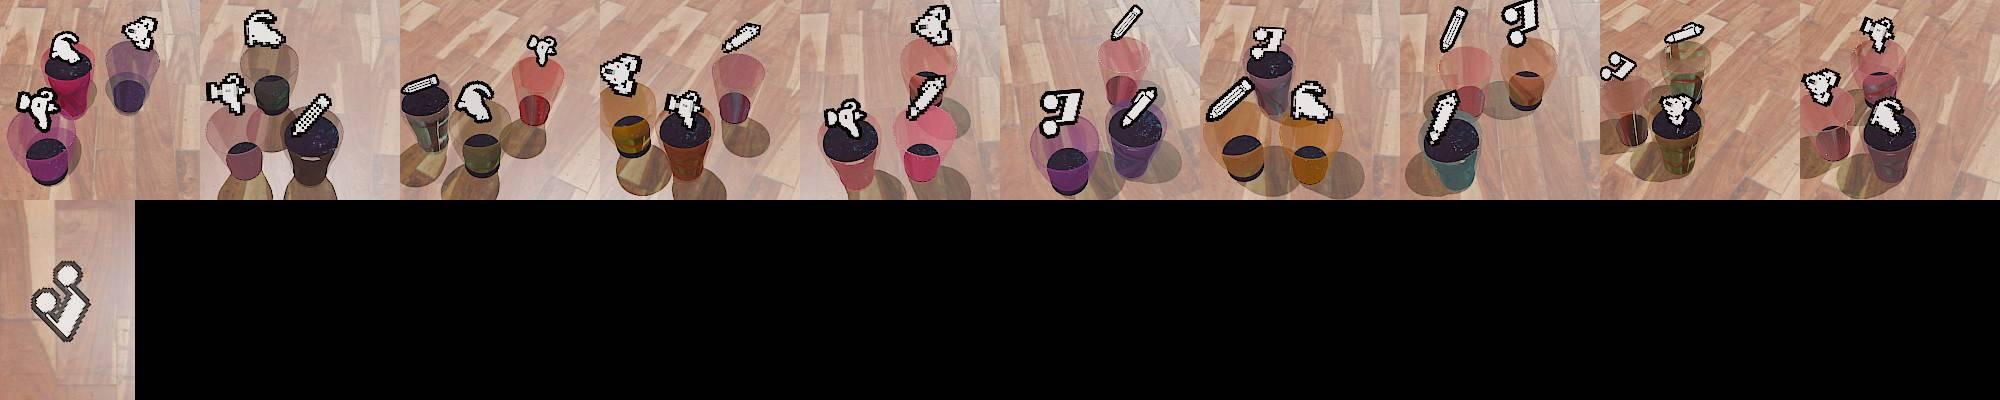icon: (28, 259, 94, 343), (1208, 75, 1255, 121), (1040, 88, 1085, 135), (906, 71, 948, 121), (205, 71, 251, 116), (909, 3, 954, 47), (598, 52, 643, 97), (17, 87, 61, 131), (1288, 79, 1333, 122), (662, 88, 707, 131), (824, 97, 869, 140), (290, 92, 333, 136), (1116, 85, 1158, 130), (241, 9, 287, 50), (1501, 0, 1541, 47), (1427, 89, 1459, 145), (454, 79, 495, 121), (1801, 68, 1842, 106), (1860, 15, 1897, 55), (1440, 5, 1469, 55), (120, 14, 158, 51), (1249, 24, 1287, 60), (47, 31, 85, 66), (721, 20, 761, 54), (1867, 98, 1903, 134), (1110, 4, 1143, 42), (1658, 93, 1695, 126), (1601, 50, 1638, 83), (1663, 20, 1707, 48), (524, 33, 559, 66), (403, 73, 441, 97)
